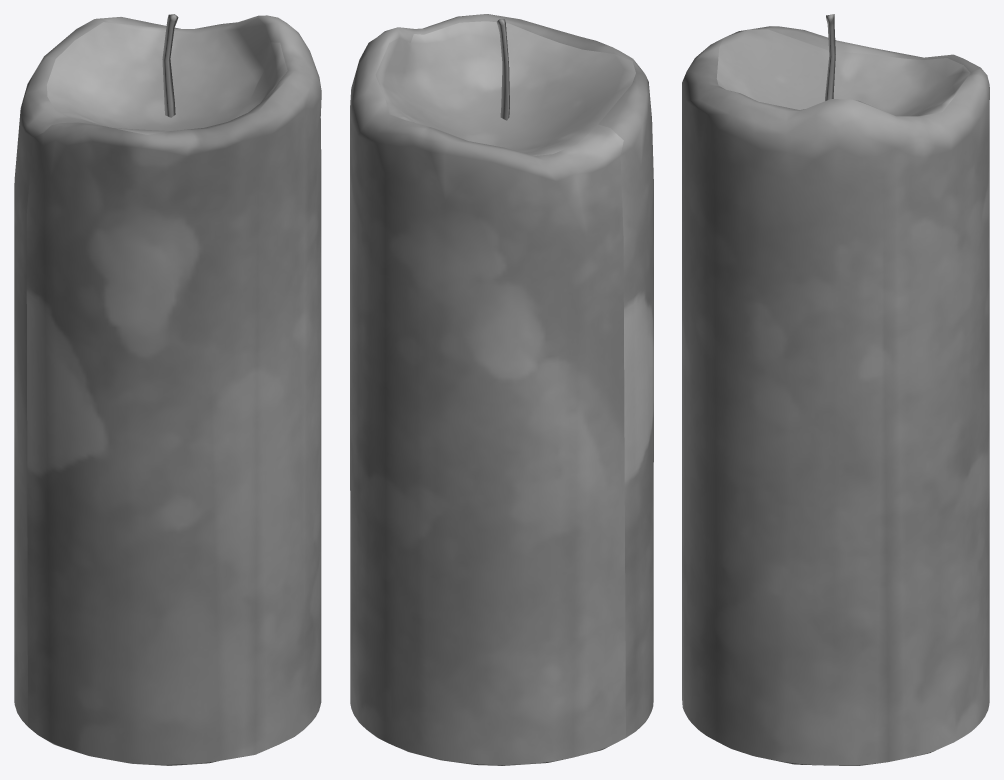
Rendered from SM_thickcandle_01c.fbx.
The picture shows the model from 3 angles, left to right: view 1: azimuth 30°, elevation 25°; view 2: azimuth 150°, elevation 25°; view 3: azimuth 270°, elevation 25°; orthographic projection.
Parts seen in each view (by area): view 1: SM_thickcandle_01c_LOD0; view 2: SM_thickcandle_01c_LOD0; view 3: SM_thickcandle_01c_LOD0.
Part boxes in pixels (<box>): SM_thickcandle_01c_LOD0: <box>14,14,321,765</box>; SM_thickcandle_01c_LOD0: <box>350,14,653,765</box>; SM_thickcandle_01c_LOD0: <box>682,14,989,765</box>.
Bounding box in the file's own units: 9.94 × 9.88 × 24.45.
